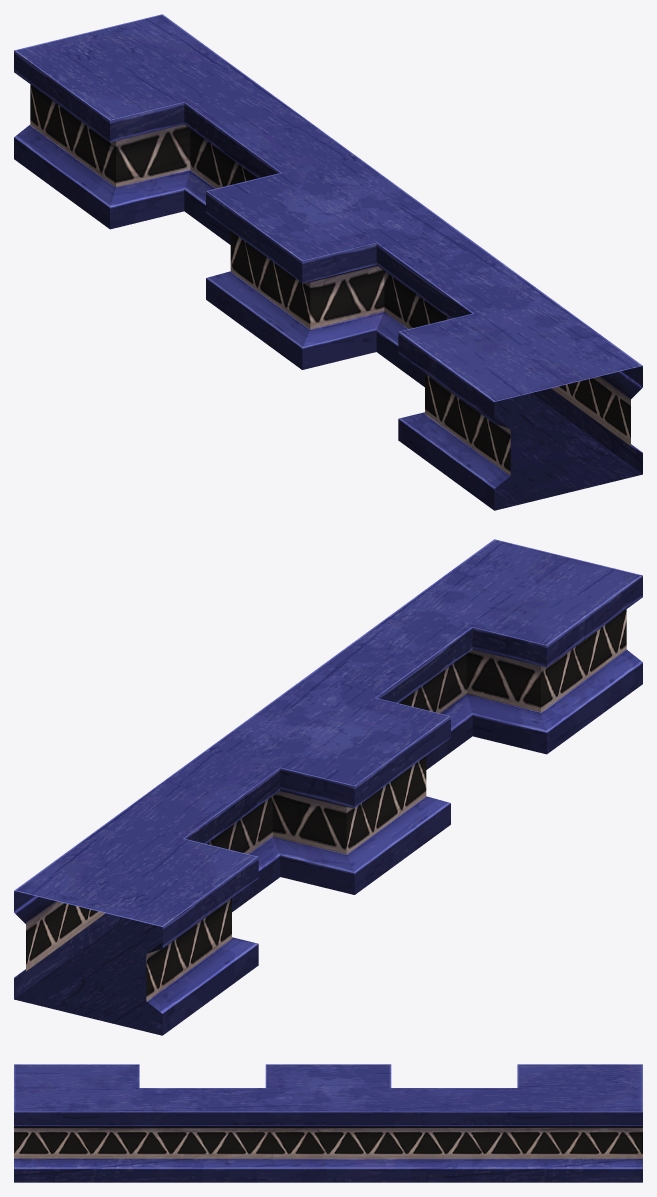
Rendered from em_beam_minotaur.fbx.
3 renders of one model, top to bottom at view 1: azimuth 30°, elevation 25°; view 2: azimuth 150°, elevation 25°; view 3: azimuth 270°, elevation 25°, orthographic. The views are drawn at different scales.
Parts seen in each view (by area): view 1: em_beam_minotaur; view 2: em_beam_minotaur; view 3: em_beam_minotaur.
Part boxes in pixels (box(x1,y1,x2,y2)): em_beam_minotaur: box(14, 14, 642, 510); em_beam_minotaur: box(14, 539, 642, 1035); em_beam_minotaur: box(14, 1064, 642, 1182).
Bounding box in the file's own units: 500 × 350 × 2800.
